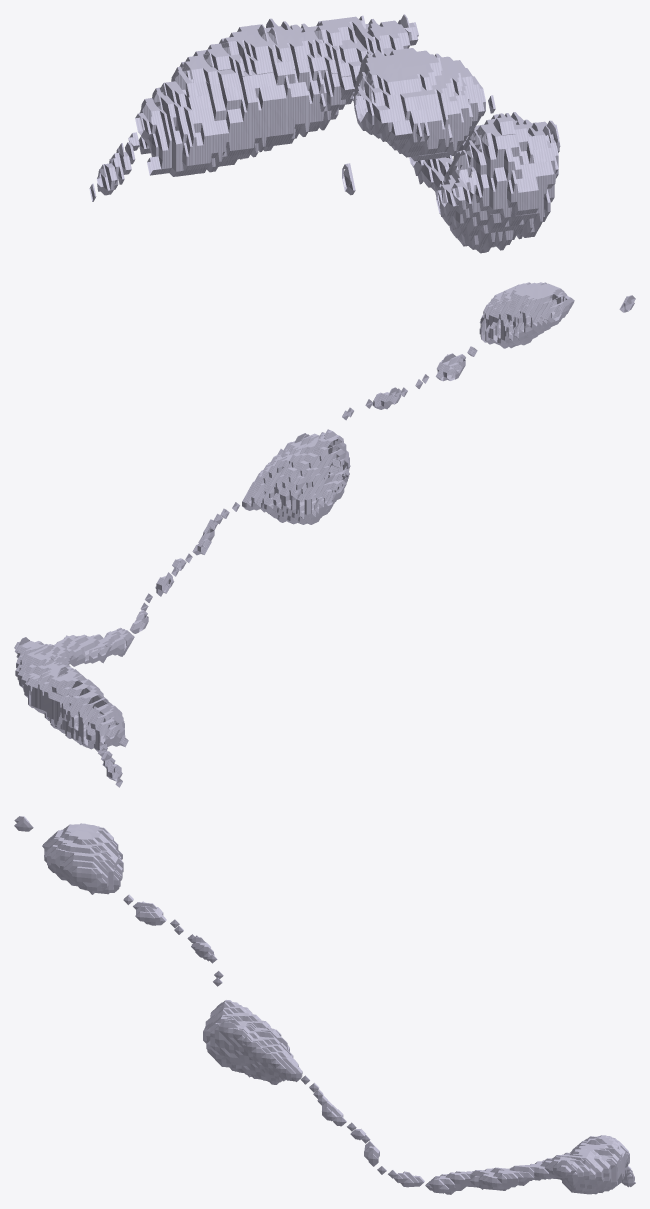
The model's file is SVV_ALNL.gltf.
The picture shows the model from 3 angles, top to bottom: view 1: azimuth 30°, elevation 25°; view 2: azimuth 150°, elevation 25°; view 3: azimuth 270°, elevation 25°; orthographic projection. The views are drawn at different scales.
Visible parts, largest first — view 1: ALNL; view 2: ALNL; view 3: ALNL.
Boxes of the visible parts, bbox=[...] form: ALNL: bbox=[89, 14, 560, 253]; ALNL: bbox=[14, 282, 635, 787]; ALNL: bbox=[14, 816, 635, 1194].
Bounding box in the file's own units: 46535 × 42849 × 81139.
